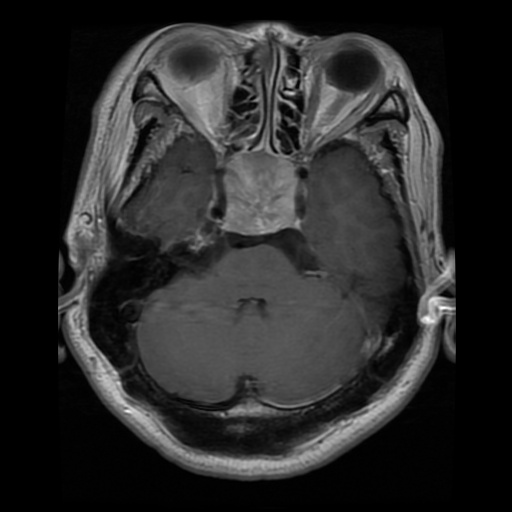pituitary: (223, 151, 298, 232)
